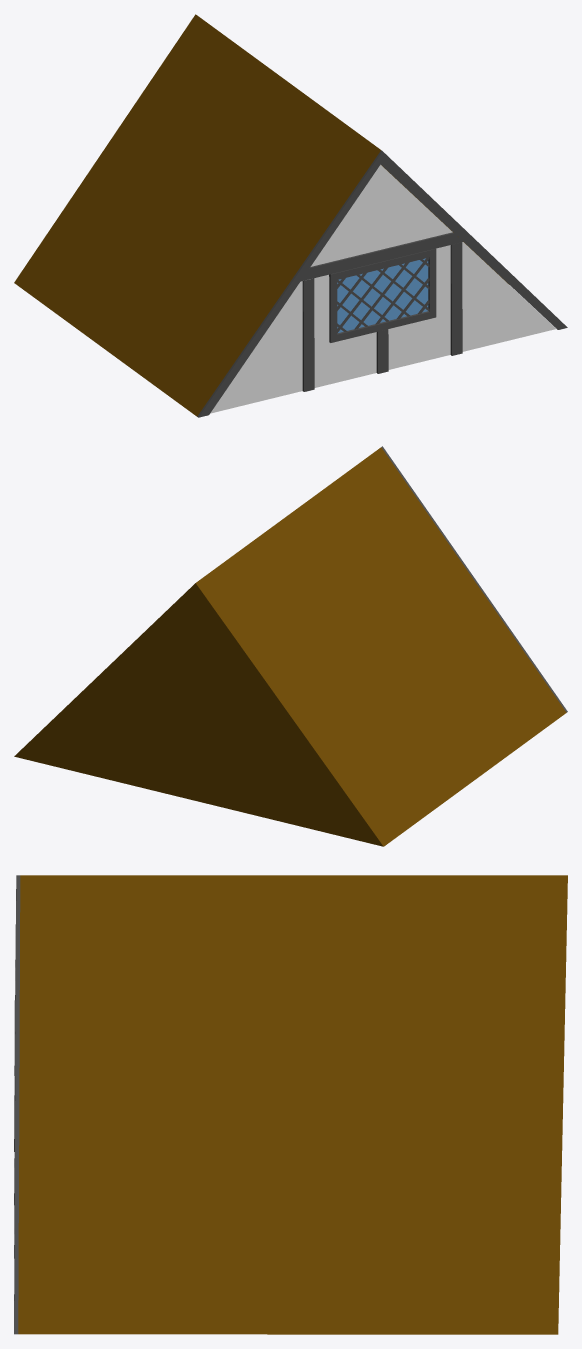
File: House-Roof-With-Window.fbx
The picture shows the model from 3 angles, top to bottom: view 1: azimuth 30°, elevation 25°; view 2: azimuth 150°, elevation 25°; view 3: azimuth 270°, elevation 25°; orthographic projection. The views are drawn at different scales.
Parts seen in each view (by area): view 1: pasted__polySurface5; view 2: pasted__polySurface5; view 3: pasted__polySurface5.
Boxes of the visible parts, box(x1,y1,x2,y2) form: pasted__polySurface5: box(14, 14, 567, 417); pasted__polySurface5: box(14, 446, 567, 846); pasted__polySurface5: box(14, 875, 567, 1334).
Bounding box in the file's own units: 350 × 200 × 308.
